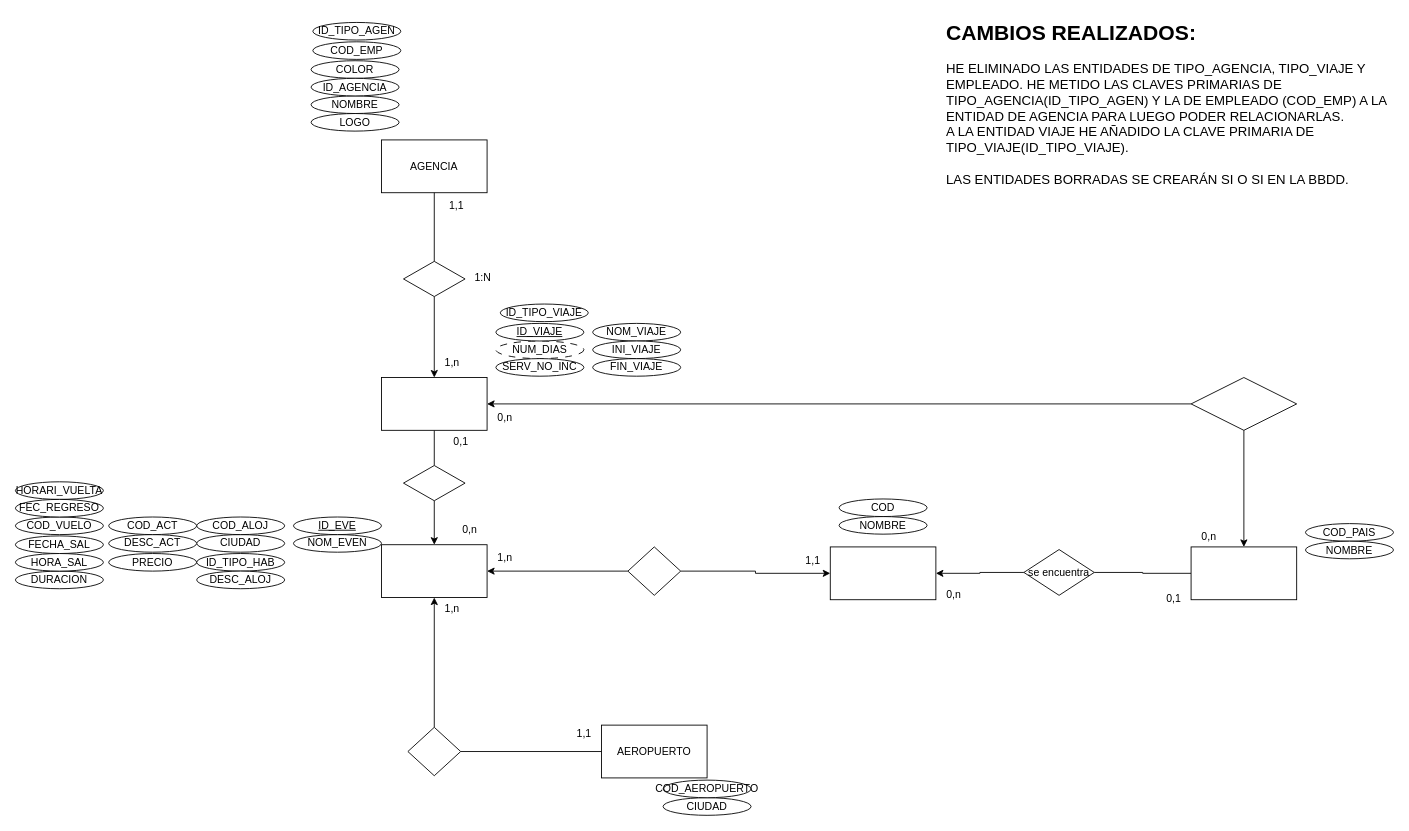
This 1409x831 diagram has some shape labels left out. Each missing label, with the box of its shape:
AEROLINEA: (829, 546, 936, 600)
EVENTO: (381, 544, 487, 598)
PAIS: (1190, 546, 1297, 600)
VIAJE: (381, 377, 487, 430)
